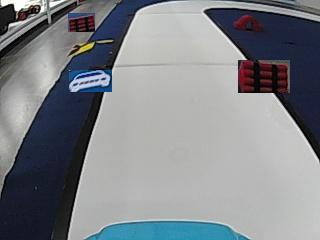bridge: (233, 15, 261, 31)
